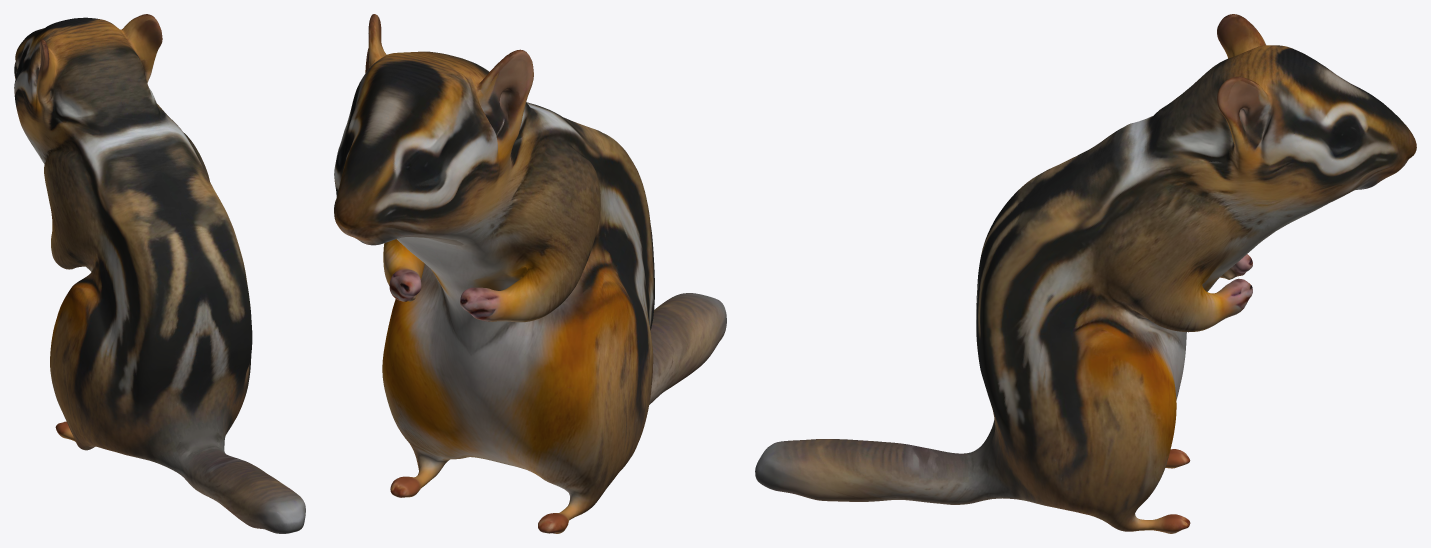
The model's file is asianburunduk.glb.
3 renders of one model, left to right at view 1: azimuth 30°, elevation 25°; view 2: azimuth 150°, elevation 25°; view 3: azimuth 270°, elevation 25°, orthographic. The views are drawn at different scales.
Visible parts, largest first — view 1: tripo_node_f33b783a-f7c5-4ee2-9c4c-1937148efda7; view 2: tripo_node_f33b783a-f7c5-4ee2-9c4c-1937148efda7; view 3: tripo_node_f33b783a-f7c5-4ee2-9c4c-1937148efda7.
Boxes of the visible parts, bbox=[...] form: tripo_node_f33b783a-f7c5-4ee2-9c4c-1937148efda7: bbox=[14, 14, 305, 533]; tripo_node_f33b783a-f7c5-4ee2-9c4c-1937148efda7: bbox=[334, 14, 726, 533]; tripo_node_f33b783a-f7c5-4ee2-9c4c-1937148efda7: bbox=[755, 14, 1416, 533].
Bounding box in the file's own units: 0.3305 × 0.7182 × 0.9484.
Materials: 1 (1 with a texture image).
